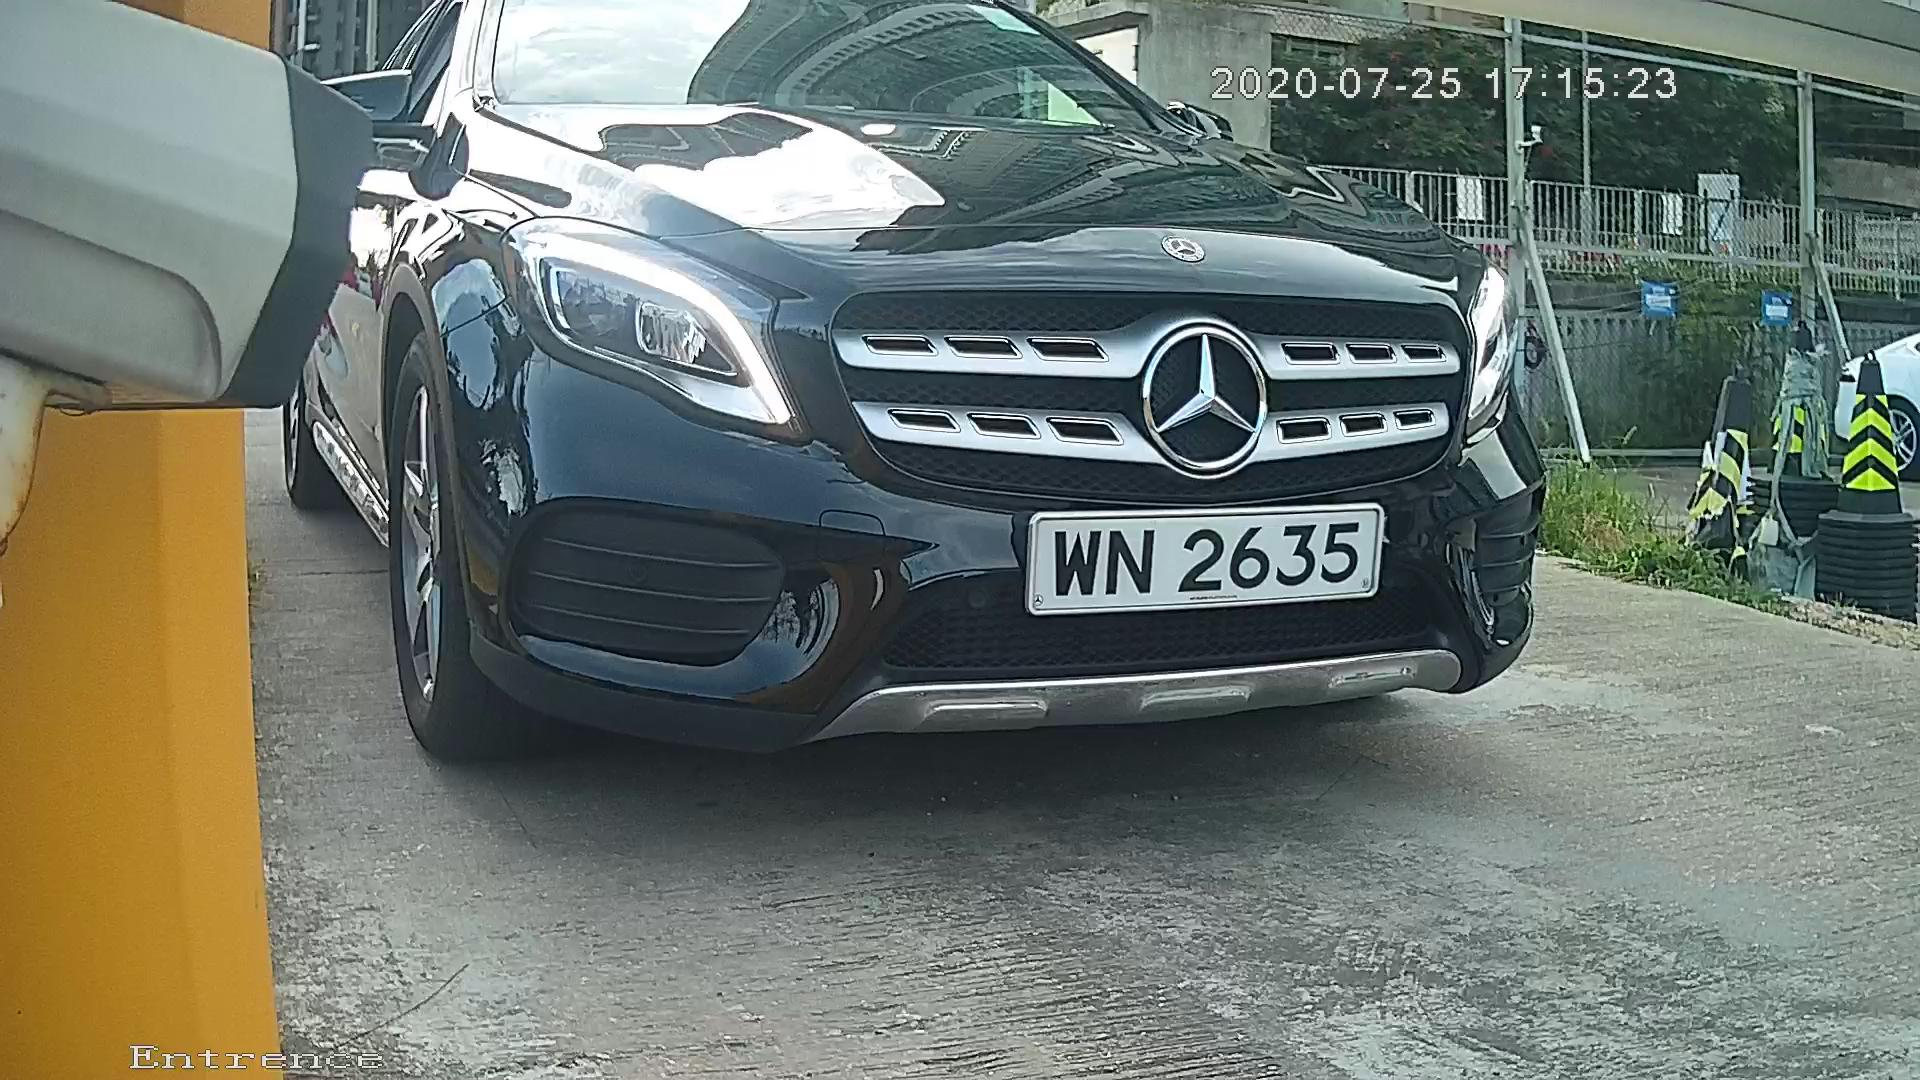License Plate: (1003, 487, 1398, 637)
